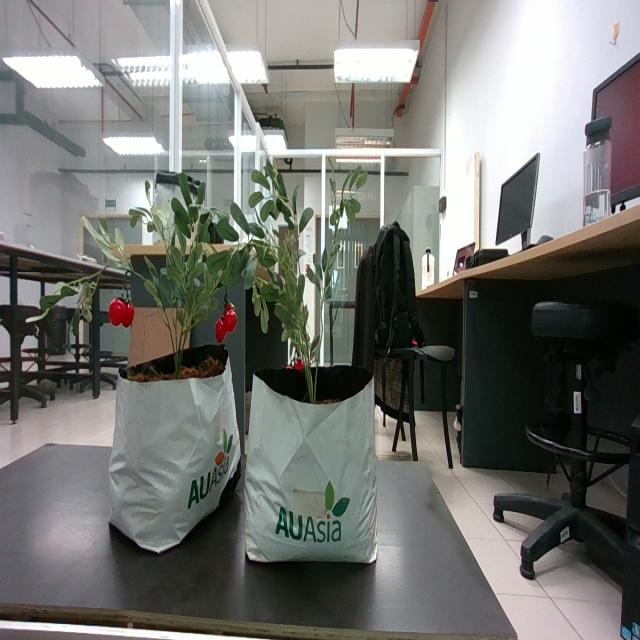Soilbag: (108, 353, 241, 556), (242, 370, 378, 567)
plant: (59, 197, 256, 380), (228, 157, 368, 405)
